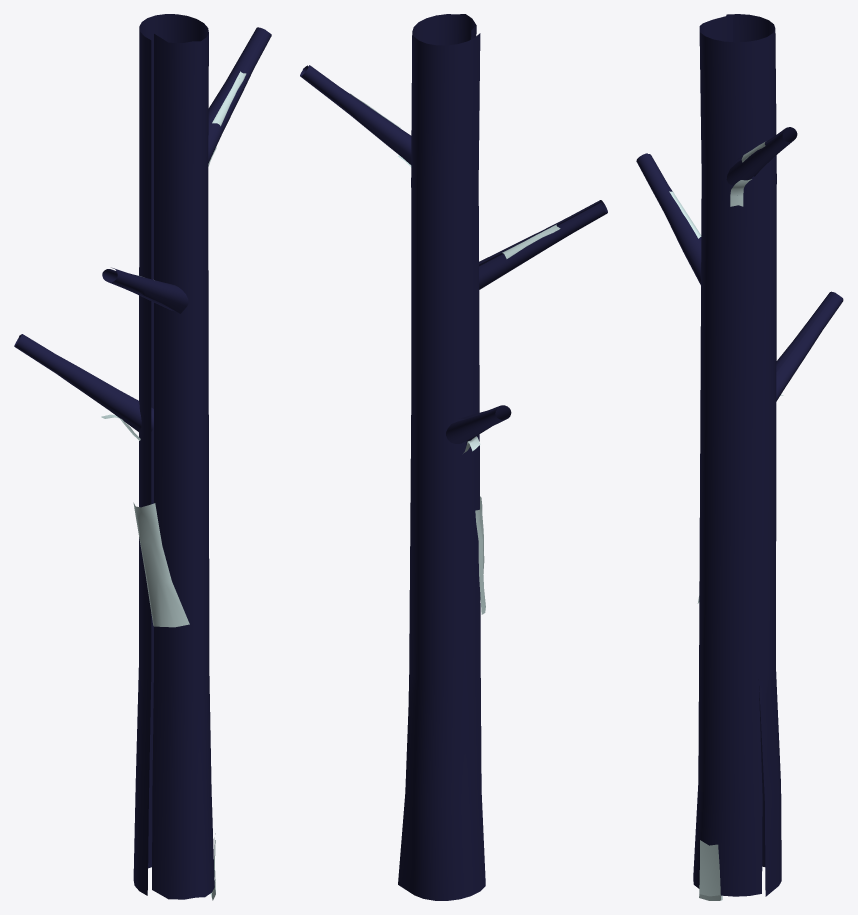
File: SM_Tronc_03.FBX
The picture shows the model from 3 angles, left to right: view 1: azimuth 30°, elevation 25°; view 2: azimuth 150°, elevation 25°; view 3: azimuth 270°, elevation 25°; orthographic projection.
Parts seen in each view (by area): view 1: SM_Tronc_03; view 2: SM_Tronc_03; view 3: SM_Tronc_03.
Boxes of the visible parts, x1,y1,x2,y2 form: SM_Tronc_03: (14, 14, 271, 900); SM_Tronc_03: (300, 14, 607, 900); SM_Tronc_03: (636, 14, 843, 900).
Size of what is drawn, in the model's own units: 84.67 by 296 by 64.27.
